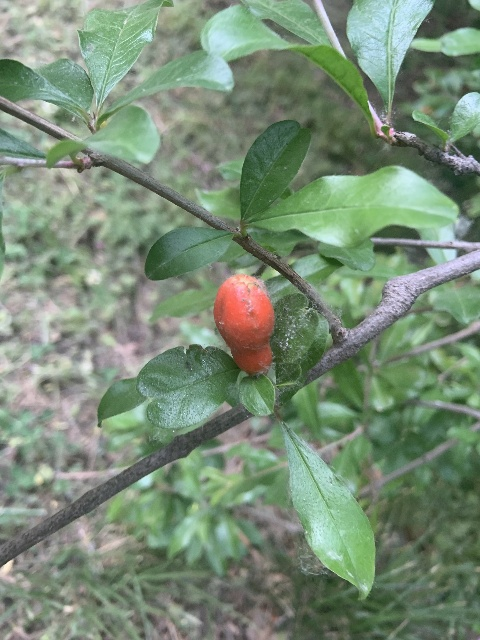bud: (213, 273, 274, 374)
